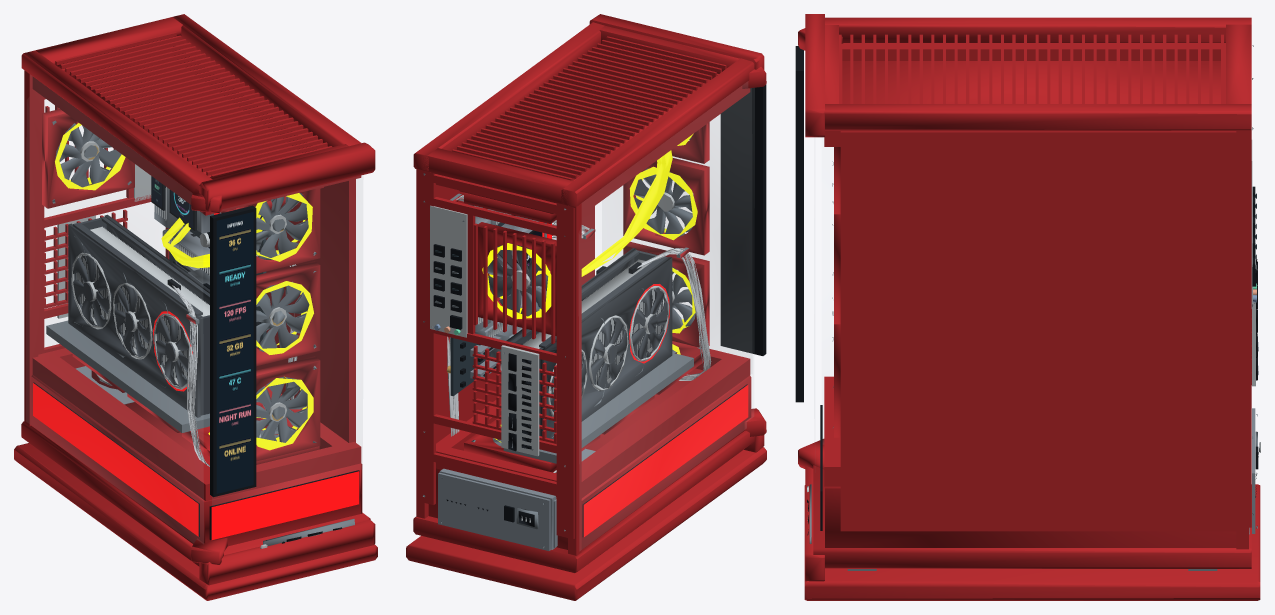
The model's file is display87-inferno.glb.
3 renders of one model, left to right at view 1: azimuth 30°, elevation 25°; view 2: azimuth 150°, elevation 25°; view 3: azimuth 270°, elevation 25°, orthographic. The views are drawn at different scales.
Visible parts, largest first — view 1: s83-surface-51fc9ba0-1fe5-4776-9724-dfc0da7f3cba, s83-surface-54ddc808-bf7c-4199-aeae-895a74d2a820, s83-surface-a512da68-8bdf-4b66-84d2-2f99324f5558, s83-surface-cb61b6f4-cf3e-4b9b-a66b-7c7c9251d378, s83-surface-f7f7c7cd-a846-41ff-a03b-7536405f7773; view 2: s83-surface-51fc9ba0-1fe5-4776-9724-dfc0da7f3cba, s83-surface-bcb48c46-d35c-497a-858b-b11939c96b49, s83-surface-54ddc808-bf7c-4199-aeae-895a74d2a820, s83-surface-cb61b6f4-cf3e-4b9b-a66b-7c7c9251d378; view 3: s83-surface-51fc9ba0-1fe5-4776-9724-dfc0da7f3cba.
Part boxes in pixels (x1,y1,x2,y2): s83-surface-51fc9ba0-1fe5-4776-9724-dfc0da7f3cba: (14, 14, 377, 600); s83-surface-54ddc808-bf7c-4199-aeae-895a74d2a820: (33, 213, 359, 539); s83-surface-a512da68-8bdf-4b66-84d2-2f99324f5558: (216, 212, 253, 493); s83-surface-cb61b6f4-cf3e-4b9b-a66b-7c7c9251d378: (55, 123, 313, 450); s83-surface-f7f7c7cd-a846-41ff-a03b-7536405f7773: (170, 190, 193, 227); s83-surface-51fc9ba0-1fe5-4776-9724-dfc0da7f3cba: (406, 14, 766, 600); s83-surface-bcb48c46-d35c-497a-858b-b11939c96b49: (602, 88, 752, 374); s83-surface-54ddc808-bf7c-4199-aeae-895a74d2a820: (539, 221, 748, 537); s83-surface-cb61b6f4-cf3e-4b9b-a66b-7c7c9251d378: (482, 133, 697, 442); s83-surface-51fc9ba0-1fe5-4776-9724-dfc0da7f3cba: (795, 14, 1260, 600).
Size of the model in its own units: 1.37 by 2.99 by 2.57.
7 materials, 6 textured.
